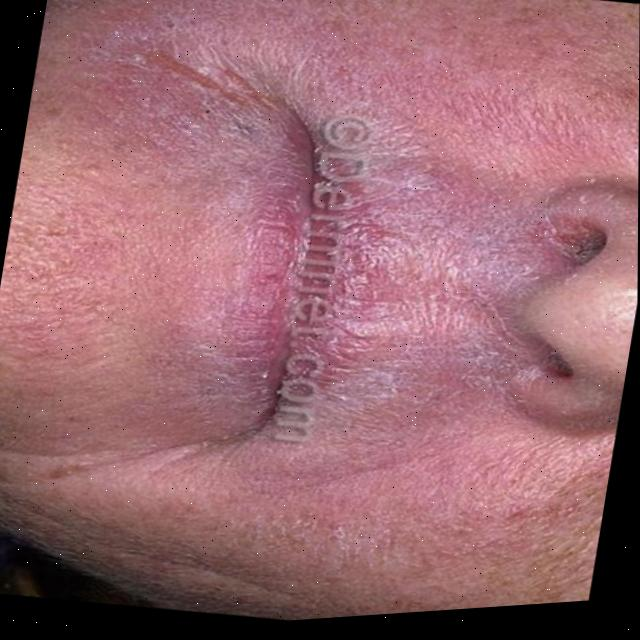Eczema: (112, 18, 470, 451)
